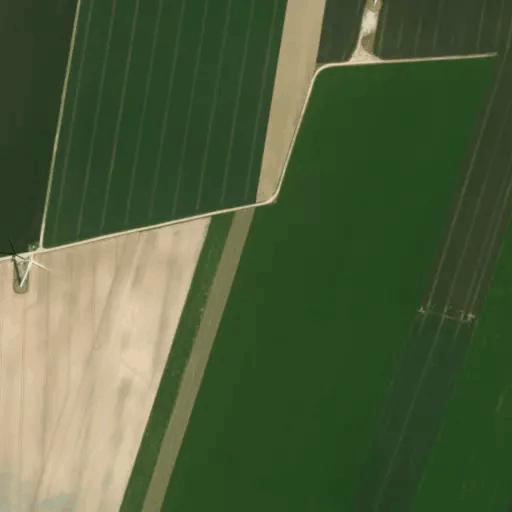wt: (6, 236, 51, 300)
